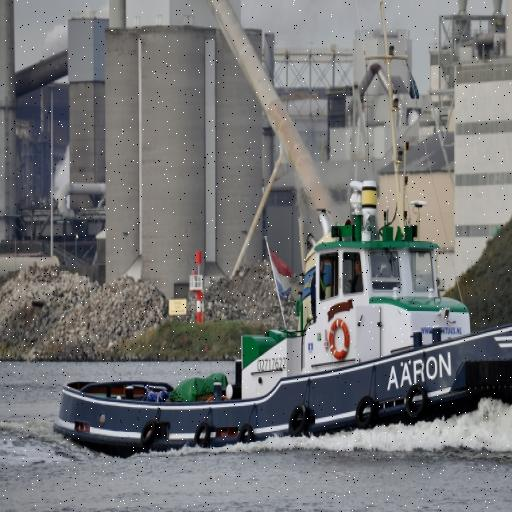tugboat: (48, 175, 512, 475)
